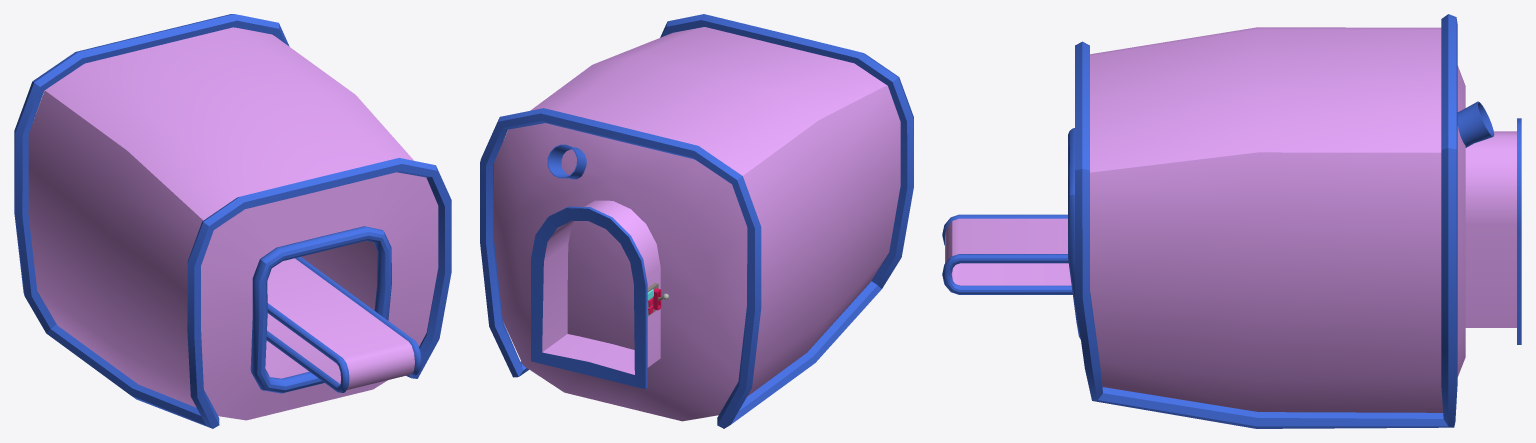
File: pres_machine_01.fbx
3 views of the same model, side by side, from view 1: azimuth 30°, elevation 25°; view 2: azimuth 150°, elevation 25°; view 3: azimuth 270°, elevation 25° (orthographic). The views are drawn at different scales.
Visible parts, largest first — view 1: pres_machine_01; view 2: pres_machine_01; view 3: pres_machine_01.
Boxes of the visible parts, box(x1,y1,x2,y2) form: pres_machine_01: box(14, 14, 451, 428); pres_machine_01: box(480, 14, 913, 428); pres_machine_01: box(942, 14, 1521, 428).
Size of the model in its own units: 784 by 754 by 1240.
